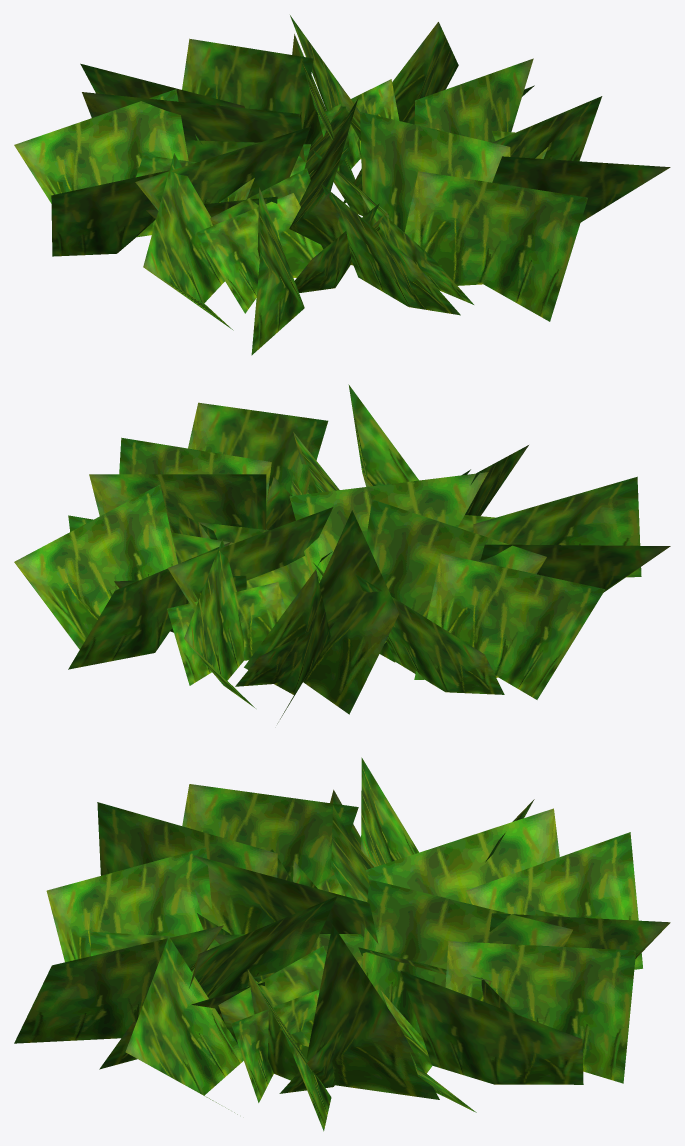
The model's file is grass1_13.glb.
3 views of the same model, one above another, from view 1: azimuth 30°, elevation 25°; view 2: azimuth 150°, elevation 25°; view 3: azimuth 270°, elevation 25° (orthographic). The views are drawn at different scales.
Parts seen in each view (by area): view 1: grass1_13; view 2: grass1_13; view 3: grass1_13.
Part boxes in pixels (left/top/right/bottom): grass1_13: left=14, top=15, right=670, bottom=355; grass1_13: left=14, top=384, right=670, bottom=723; grass1_13: left=14, top=757, right=670, bottom=1131.
Size of the model in its own units: 3.91 by 0.8204 by 3.91.
Materials: 1 (1 with a texture image).
